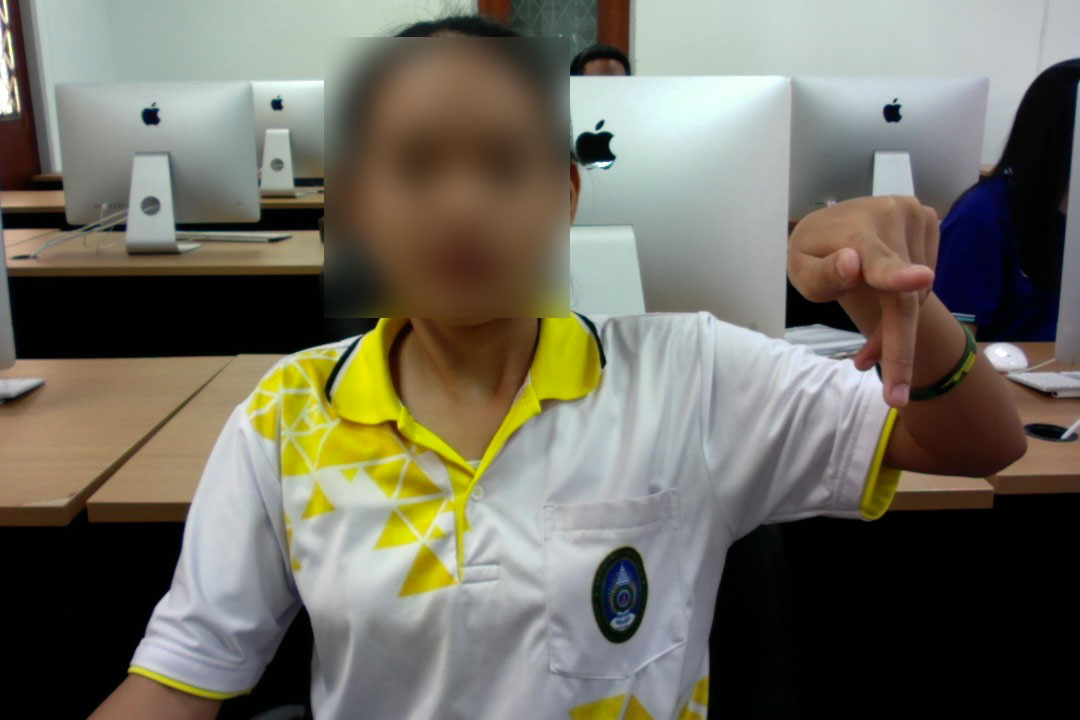por: (789, 193, 944, 413)
